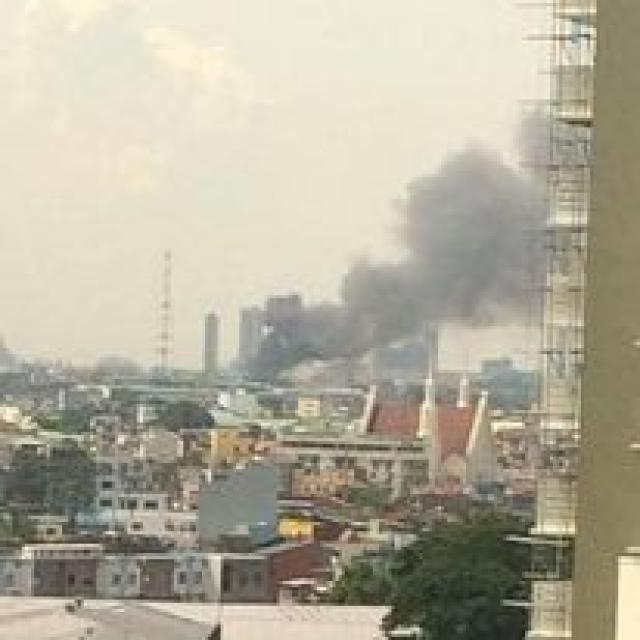Smoke: (374, 174, 556, 356), (242, 284, 388, 360)
